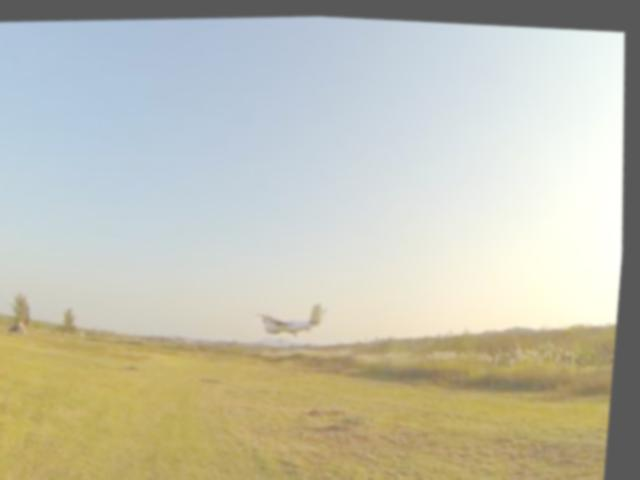uav: (245, 285, 349, 358)
